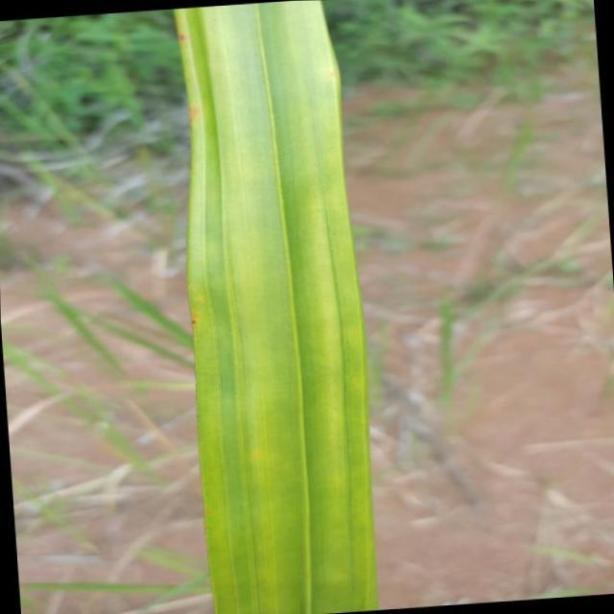nitrogen: (172, 0, 372, 614)
